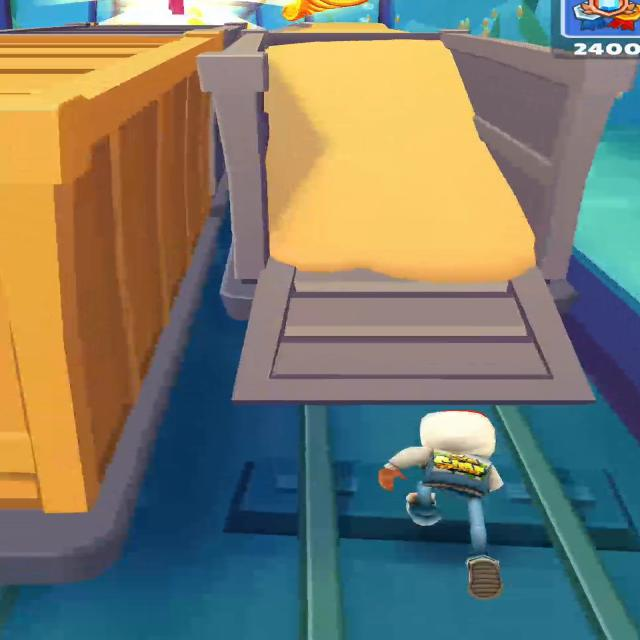climber: (203, 23, 637, 404)
train: (0, 24, 242, 583)
